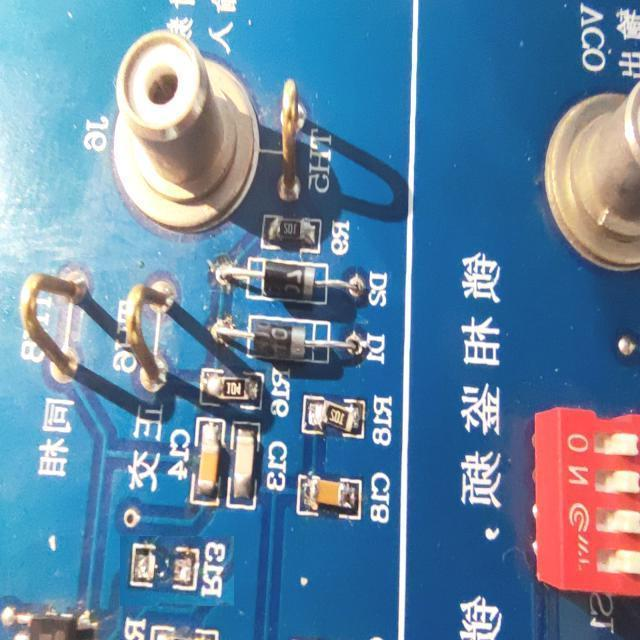miss_welding: (120, 536, 234, 606)
